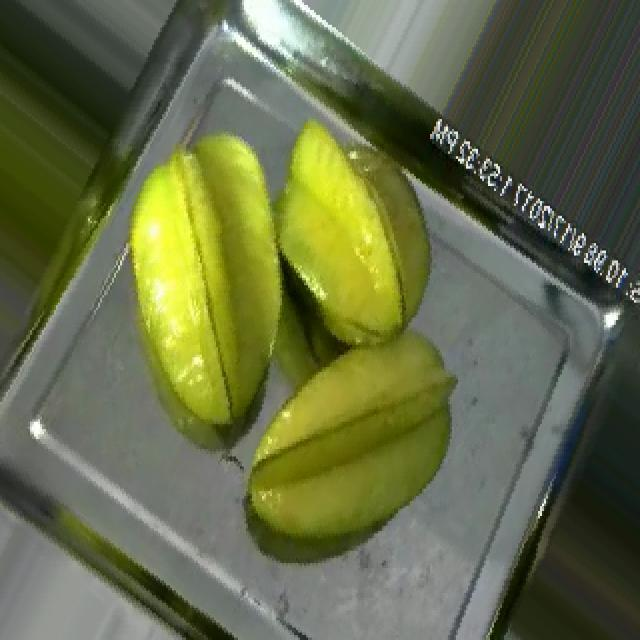fruit: (74, 104, 388, 472), (212, 290, 492, 596), (222, 92, 486, 394), (0, 0, 234, 124)
